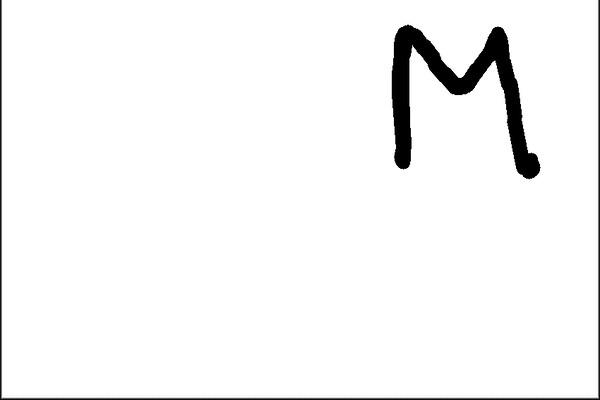M: (385, 15, 542, 181)
